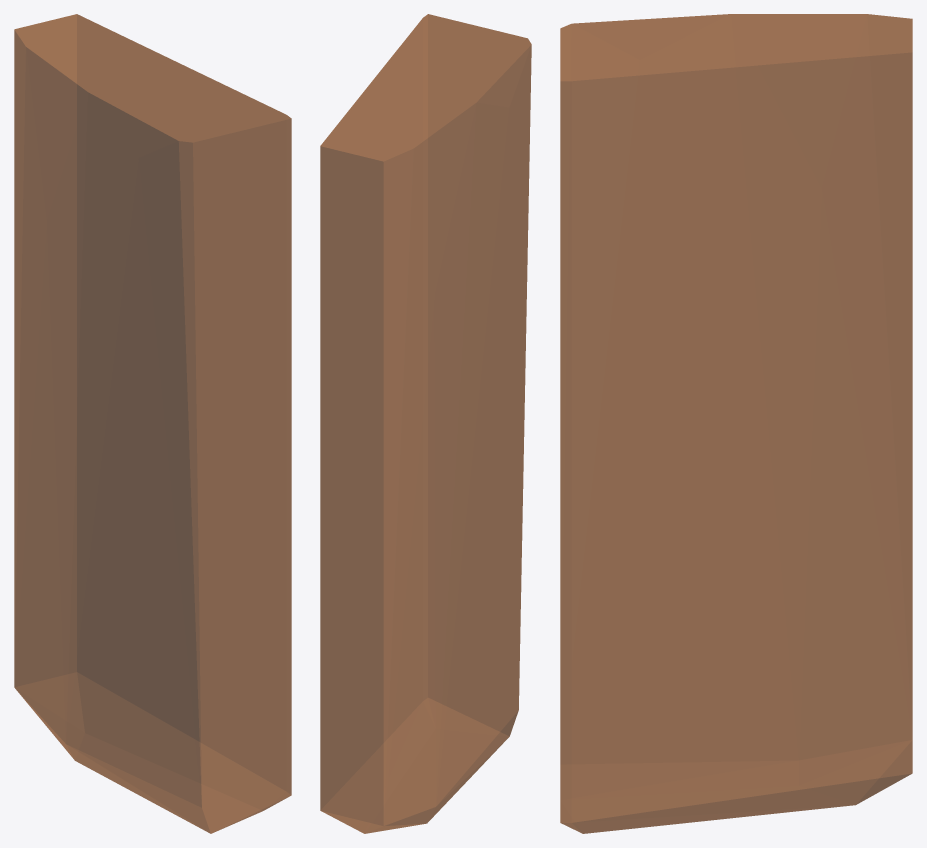
The picture shows the model from 3 angles, left to right: view 1: azimuth 30°, elevation 25°; view 2: azimuth 150°, elevation 25°; view 3: azimuth 270°, elevation 25°; orthographic projection. The views are drawn at different scales.
Parts seen in each view (by area): view 1: Shape_IndexedFaceSet.005_Shape_IndexedFaceSet.15987; view 2: Shape_IndexedFaceSet.005_Shape_IndexedFaceSet.15987; view 3: Shape_IndexedFaceSet.005_Shape_IndexedFaceSet.15987.
Part boxes in pixels (box(x1,y1,x2,y2)): Shape_IndexedFaceSet.005_Shape_IndexedFaceSet.15987: box(14, 14, 291, 833); Shape_IndexedFaceSet.005_Shape_IndexedFaceSet.15987: box(320, 14, 531, 833); Shape_IndexedFaceSet.005_Shape_IndexedFaceSet.15987: box(560, 14, 912, 833).
Size of the model in its own units: 0.0484 by 0.2557 by 0.1071.
